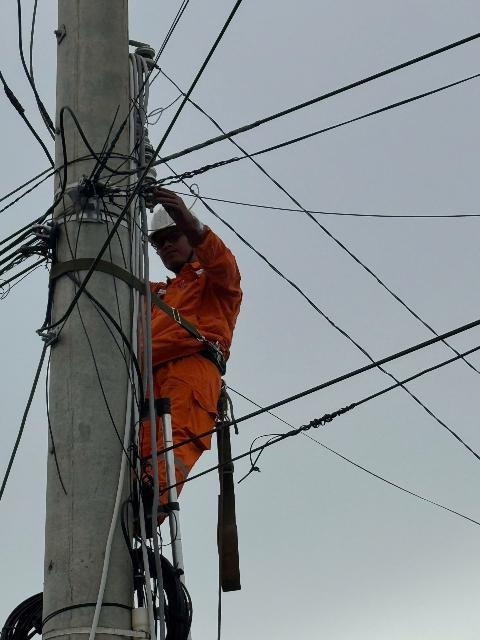gloves: (143, 177, 208, 249)
harness: (146, 307, 247, 384)
helmet: (136, 187, 191, 247)
